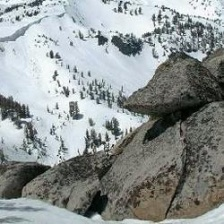neutral: (2, 3, 224, 221)
